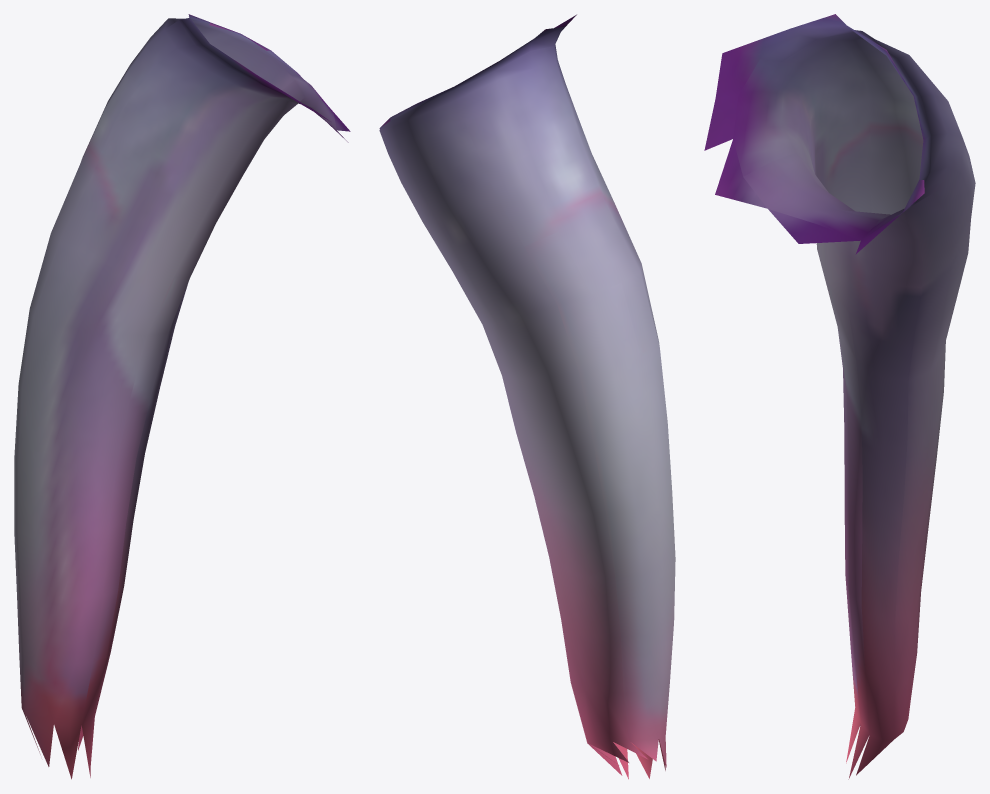
File: Tentaculo3.obj
3 renders of one model, left to right at view 1: azimuth 30°, elevation 25°; view 2: azimuth 150°, elevation 25°; view 3: azimuth 270°, elevation 25°, orthographic. The views are drawn at different scales.
Visible parts, largest first — view 1: Tentaculo3; view 2: Tentaculo3; view 3: Tentaculo3.
Part boxes in pixels (x1,y1,x2,y2): Tentaculo3: [14, 14, 350, 779]; Tentaculo3: [379, 14, 675, 779]; Tentaculo3: [704, 14, 975, 779].
Size of the model in its own units: 6.89 by 15.9 by 4.79.
